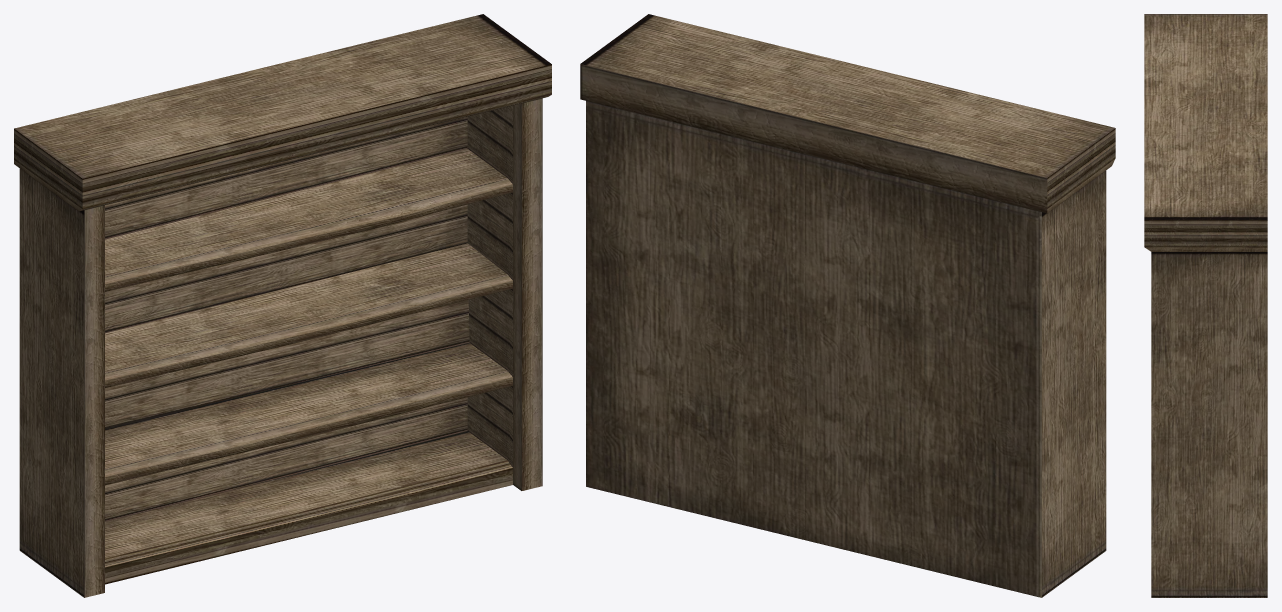
The model's file is GS_SINGLE_OPEN_STORAGE_YELLOW_01_KOZA.glb.
3 views of the same model, side by side, from view 1: azimuth 30°, elevation 25°; view 2: azimuth 150°, elevation 25°; view 3: azimuth 270°, elevation 25° (orthographic). The views are drawn at different scales.
Parts seen in each view (by area): view 1: GS_SINGLE_OPEN_STORAGE_YELLOW_01_KOZA; view 2: GS_SINGLE_OPEN_STORAGE_YELLOW_01_KOZA; view 3: GS_SINGLE_OPEN_STORAGE_YELLOW_01_KOZA.
Boxes of the visible parts, bbox=[...] form: GS_SINGLE_OPEN_STORAGE_YELLOW_01_KOZA: bbox=[14, 14, 551, 597]; GS_SINGLE_OPEN_STORAGE_YELLOW_01_KOZA: bbox=[580, 14, 1115, 597]; GS_SINGLE_OPEN_STORAGE_YELLOW_01_KOZA: bbox=[1144, 14, 1267, 597].
Bounding box in the file's own units: 3.15 × 2.72 × 0.7984.
2 materials, 2 textured.
